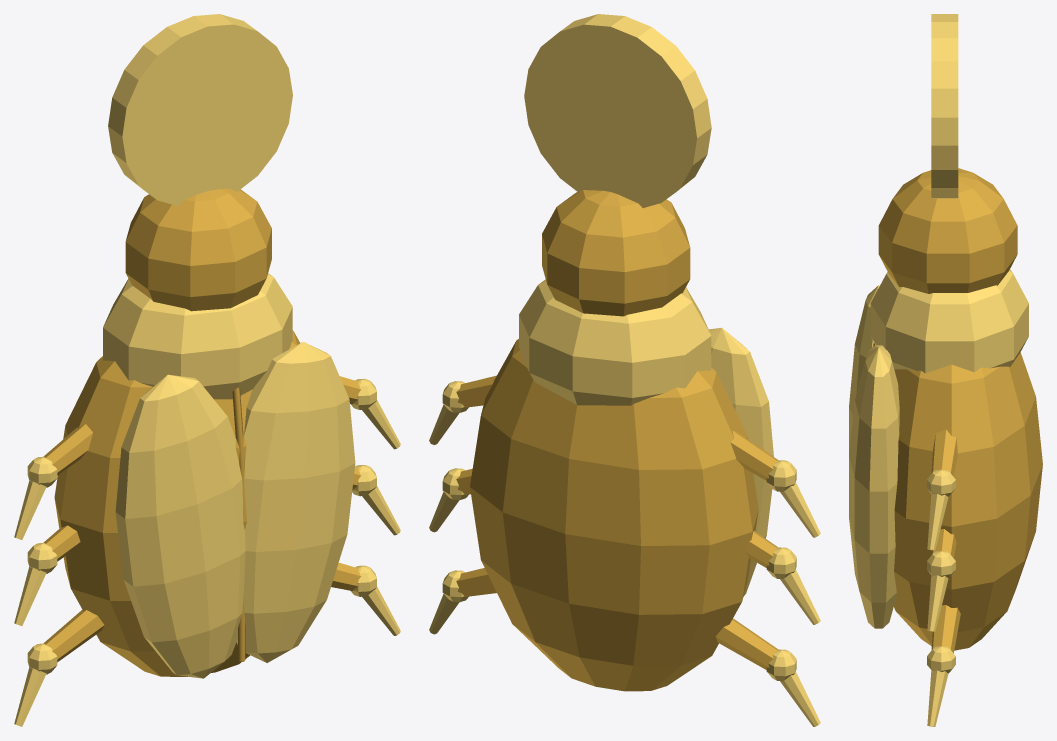
File: Khepri.fbx
The picture shows the model from 3 angles, left to right: view 1: azimuth 30°, elevation 25°; view 2: azimuth 150°, elevation 25°; view 3: azimuth 270°, elevation 25°; orthographic projection. The views are drawn at different scales.
Visible parts, largest first — view 1: Khepri | articulación, Khepri | sutura central; view 2: Khepri | articulación; view 3: Khepri | articulación.
Part boxes in pixels (left/top/right/bottom): Khepri | articulación: left=14, top=14, right=400, bottom=726; Khepri | sutura central: left=232, top=387, right=245, bottom=661; Khepri | articulación: left=429, top=14, right=820, bottom=726; Khepri | articulación: left=849, top=14, right=1042, bottom=726.
Bounding box in the file's own units: 248 × 403 × 115.
